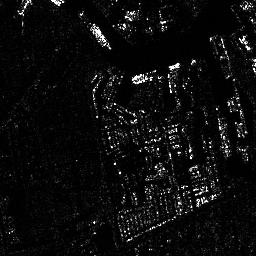ship: (87, 22, 112, 49)
